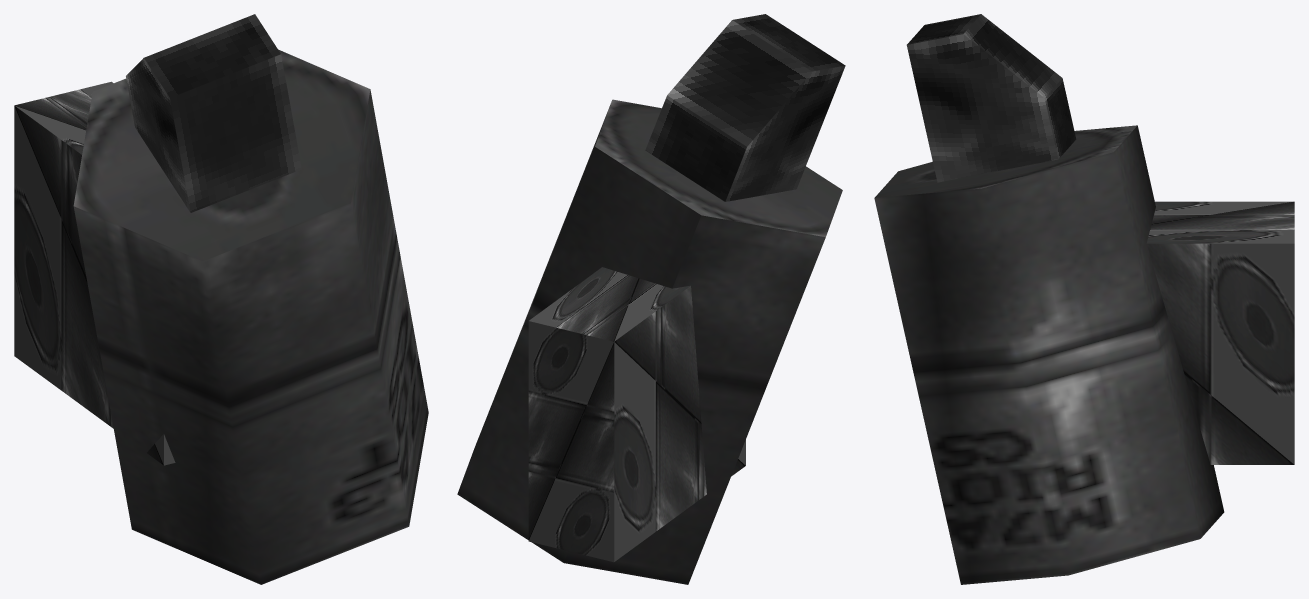
The model's file is flashbang-world.glb.
3 views of the same model, side by side, from view 1: azimuth 30°, elevation 25°; view 2: azimuth 150°, elevation 25°; view 3: azimuth 270°, elevation 25° (orthographic). The views are drawn at different scales.
Visible parts, largest first — view 1: flashbang held; view 2: flashbang held; view 3: flashbang held.
Part boxes in pixels (bbox=[...]): flashbang held: bbox=[14, 14, 428, 584]; flashbang held: bbox=[457, 14, 845, 584]; flashbang held: bbox=[874, 14, 1294, 584].
Bounding box in the file's own units: 0.124 × 0.1836 × 0.1355.
2 materials, 2 textured.
